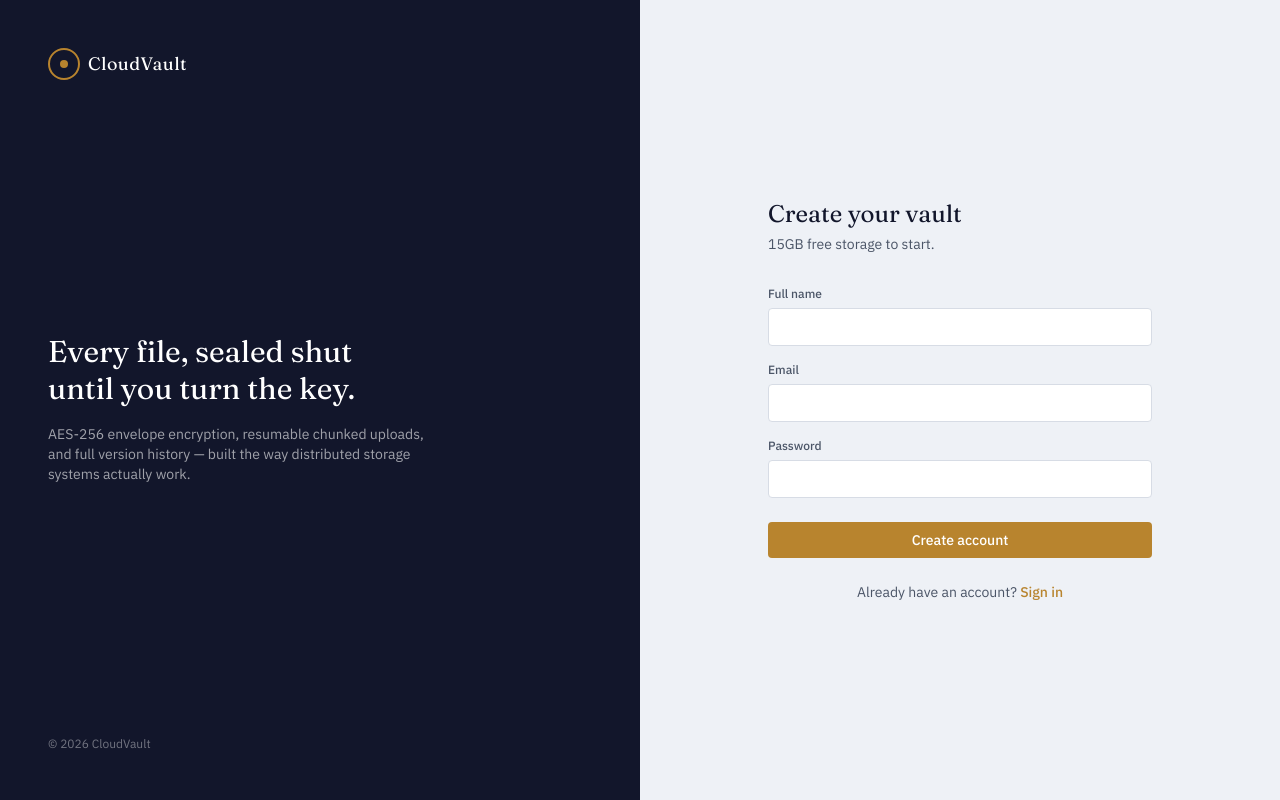
Test: RegisterPage › shows a strength label once the user starts typing a password
Type "abc" into the password field labelled "Password" at [960, 479], box [768,460,1152,498]
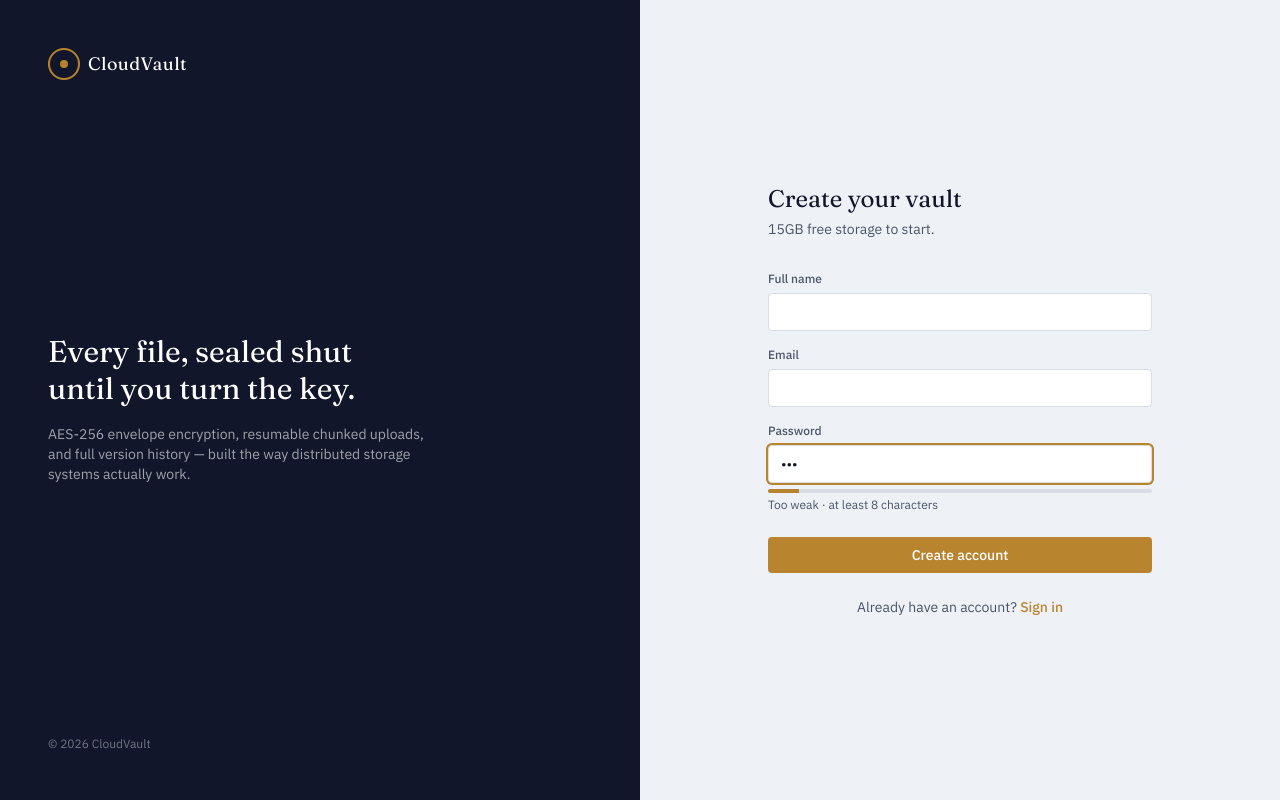
Check: the text "Too weak · at least 8 characters" is shown, box [768,497,938,512]
Type "12345ABC!" into the password field labelled "Password" at [960, 464], box [768,445,1152,483]
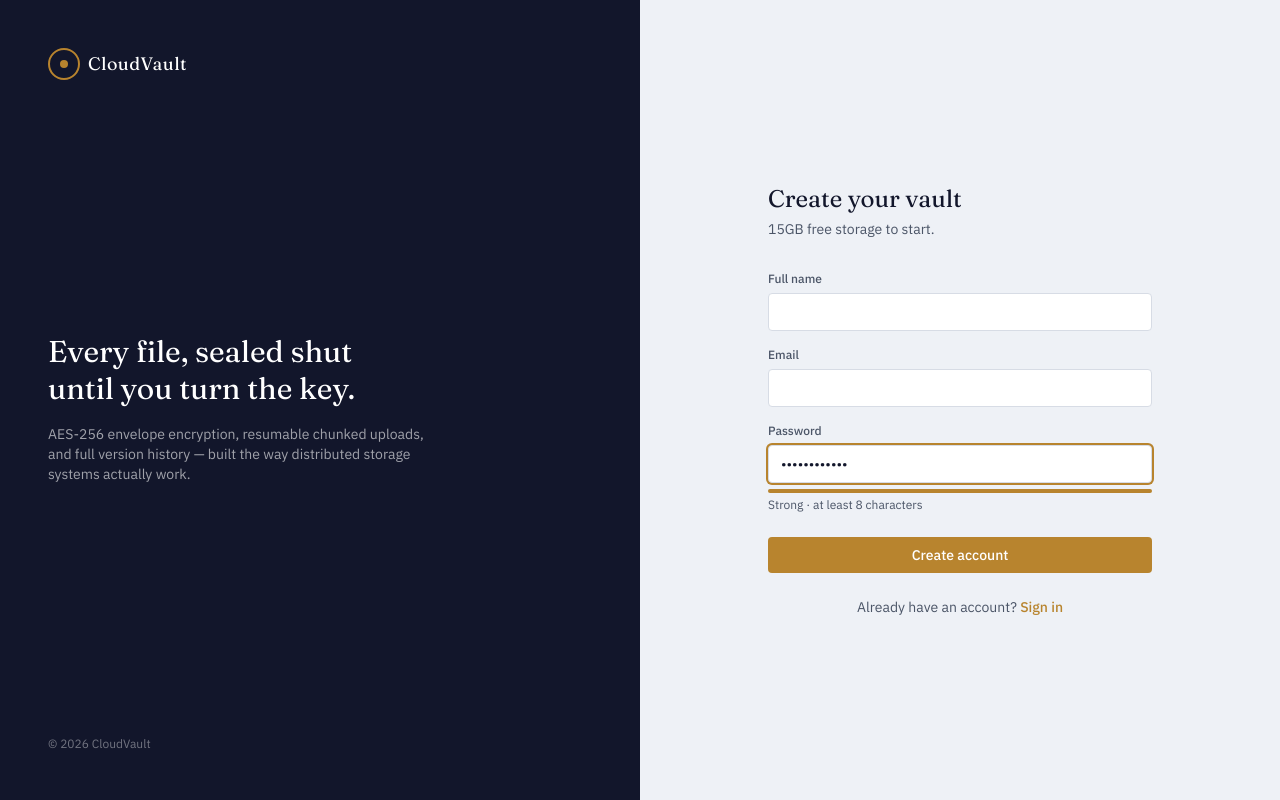
Check: the text "Strong · at least 8 characters" is shown, box [768,497,923,512]
